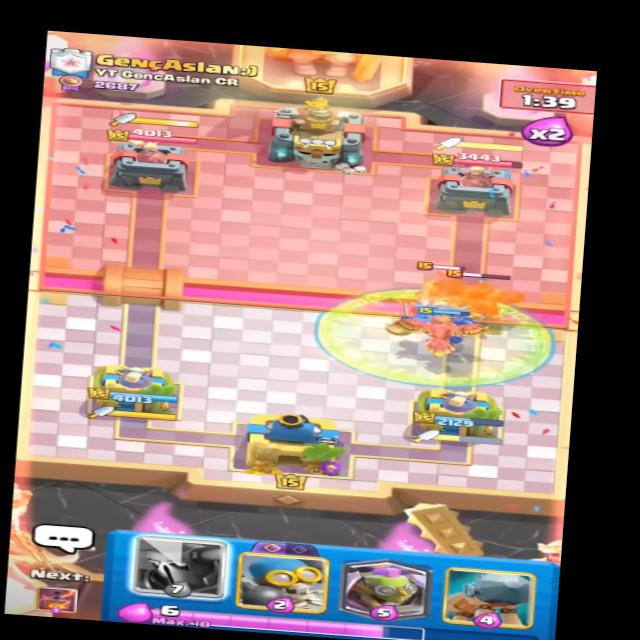mega-knight: (436, 268, 521, 323)
prince: (413, 257, 478, 312)
